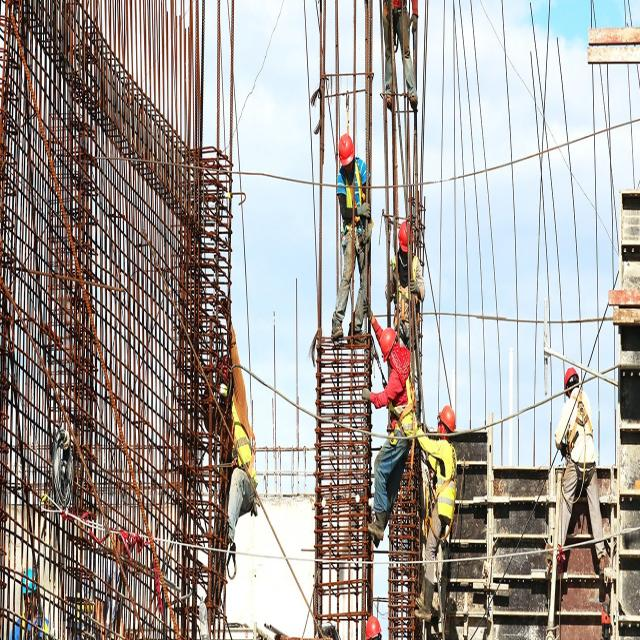blue helmet: (21, 564, 39, 596)
red helmet: (338, 131, 358, 172), (438, 399, 458, 433), (399, 216, 415, 256), (365, 612, 385, 640), (563, 364, 579, 395)
